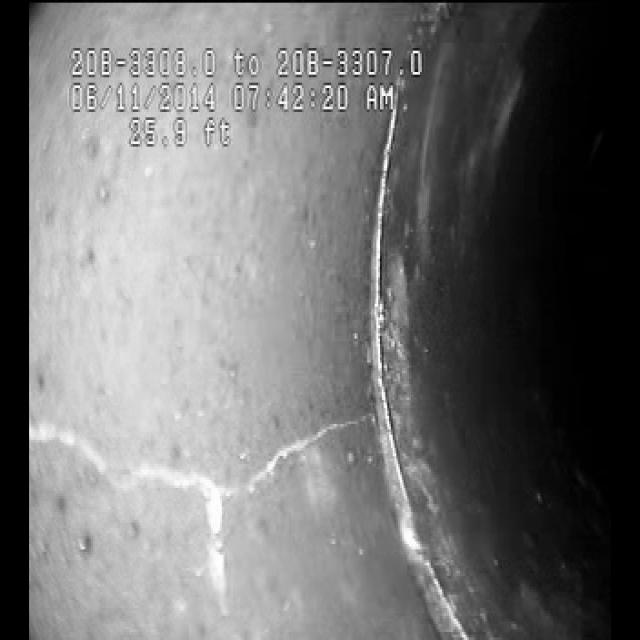Crack: (51, 377, 339, 538)
